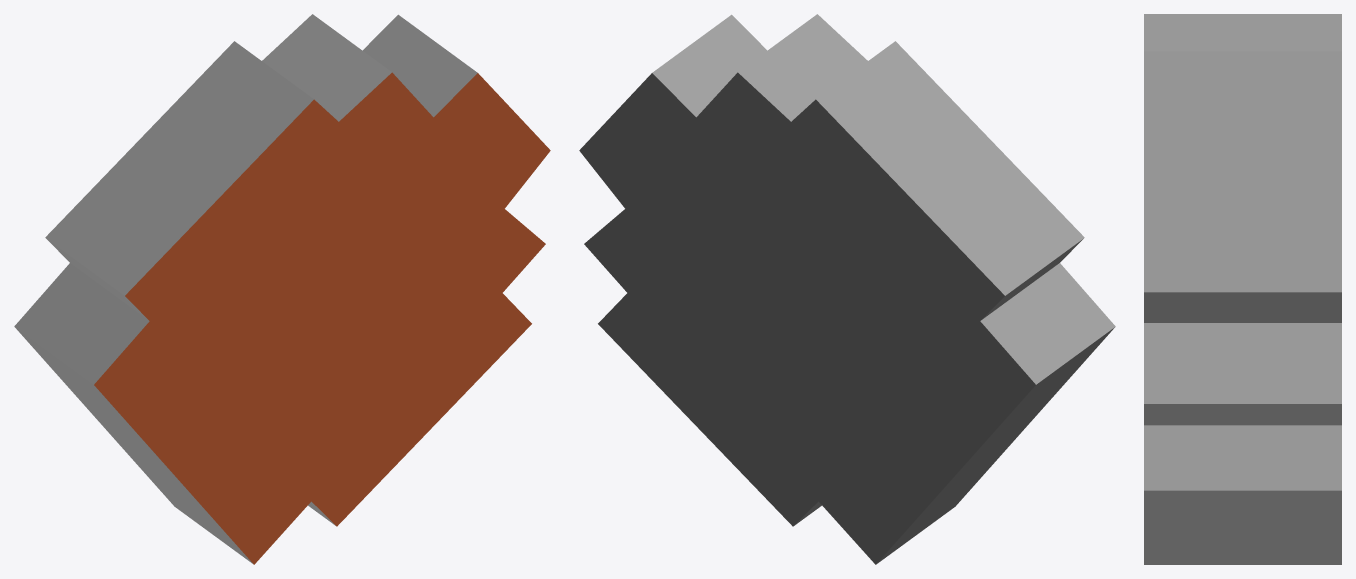
The model's file is construction_5164_assumed_A_Casa_h6m.obj.
3 renders of one model, left to right at view 1: azimuth 30°, elevation 25°; view 2: azimuth 150°, elevation 25°; view 3: azimuth 270°, elevation 25°, orthographic. The views are drawn at different scales.
Visible parts, largest first — view 1: construction_5164_assumed_A_Casa; view 2: construction_5164_assumed_A_Casa; view 3: construction_5164_assumed_A_Casa.
Part boxes in pixels (x1,y1,x2,y2): construction_5164_assumed_A_Casa: (14,14,550,564); construction_5164_assumed_A_Casa: (579,14,1115,564); construction_5164_assumed_A_Casa: (1144,14,1341,564).
Bounding box in the file's own units: 19.86 × 19.07 × 6.
